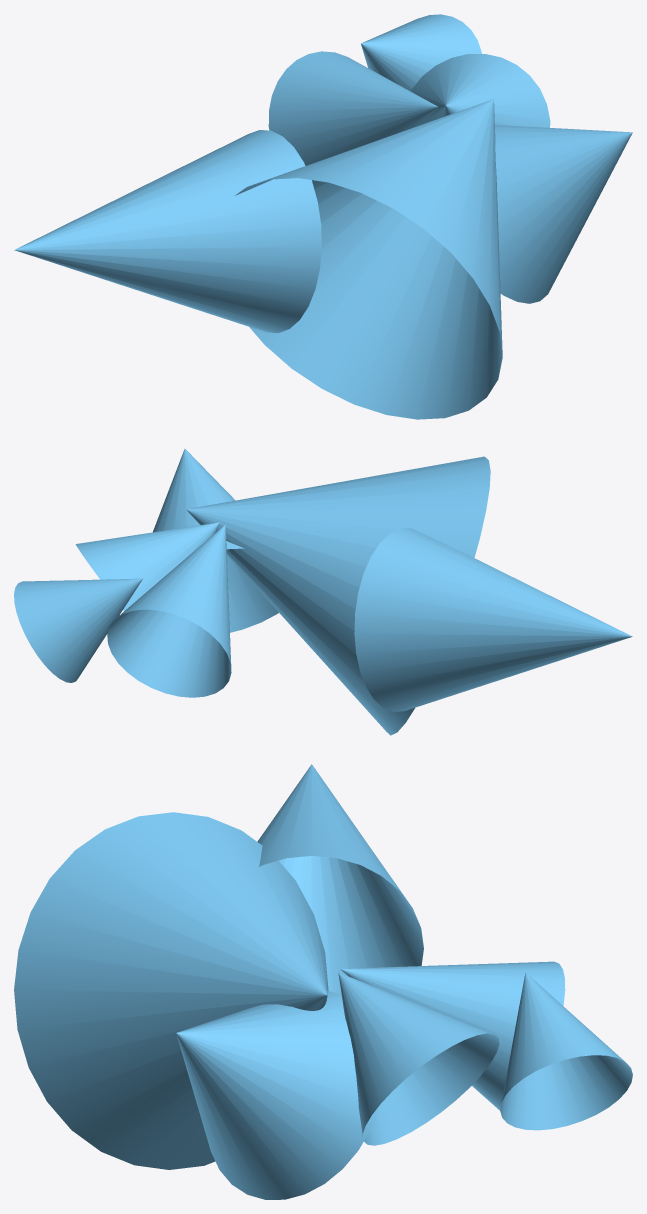
The model's file is item-campos.glb.
3 views of the same model, one above another, from view 1: azimuth 30°, elevation 25°; view 2: azimuth 150°, elevation 25°; view 3: azimuth 270°, elevation 25° (orthographic). The views are drawn at different scales.
Parts seen in each view (by area): view 1: campos-de-visao; view 2: campos-de-visao; view 3: campos-de-visao.
Part boxes in pixels (x1,y1,x2,y2): campos-de-visao: [14, 14, 632, 419]; campos-de-visao: [14, 448, 632, 735]; campos-de-visao: [14, 764, 632, 1199].
Bounding box in the file's own units: 23.16 × 10.7 × 19.84.
